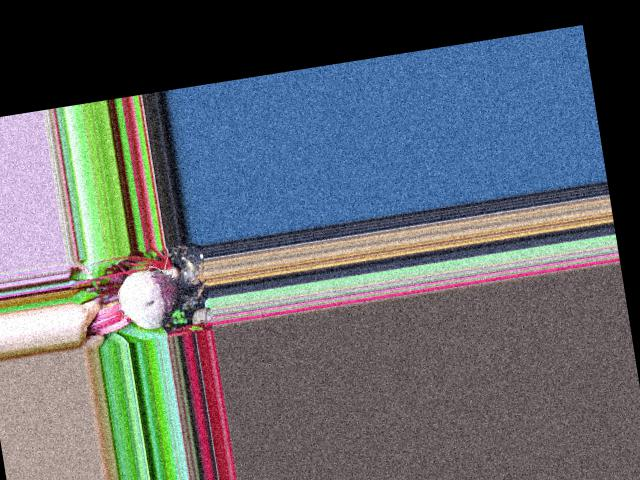beet: (77, 260, 213, 339)
